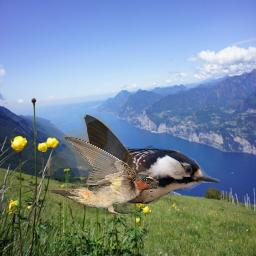Swallow: (47, 114, 159, 216)
Woodpecker: (121, 144, 220, 206)
